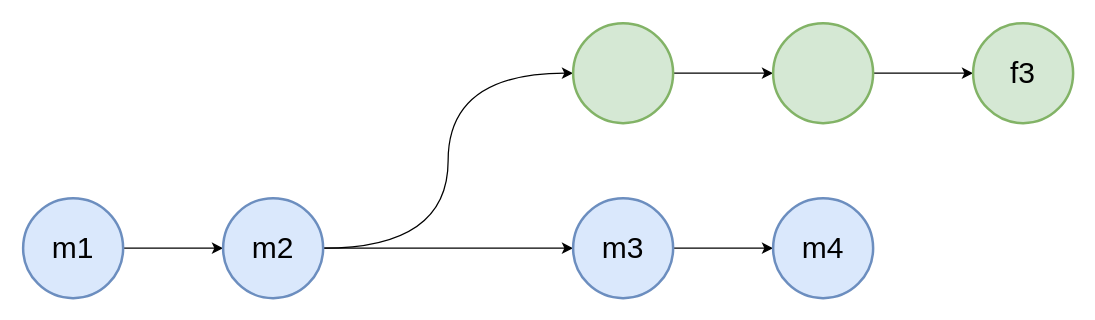
The diagram is 1095 pixels wide and 320 high, and some of its shapes have lost their labels. The centre of each missing label's shape, as x and y in pixels:
f1: the point at 622,72
f2: the point at 822,72
